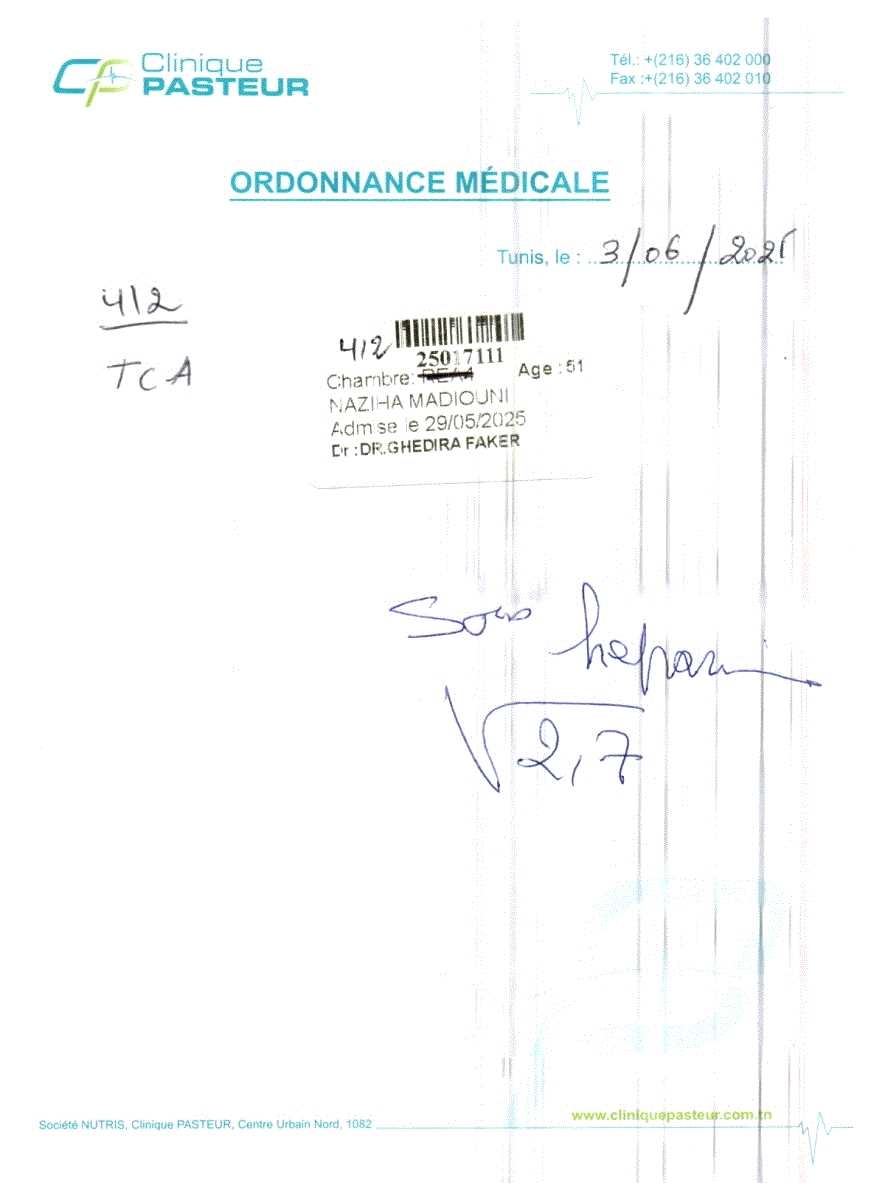zone_analyses: (351, 549, 846, 832)
zone_date: (589, 222, 824, 303), (425, 411, 537, 427)
zone_patient: (319, 391, 533, 412)
zone_prescripteur: (17, 1095, 822, 1144), (330, 436, 535, 465)
